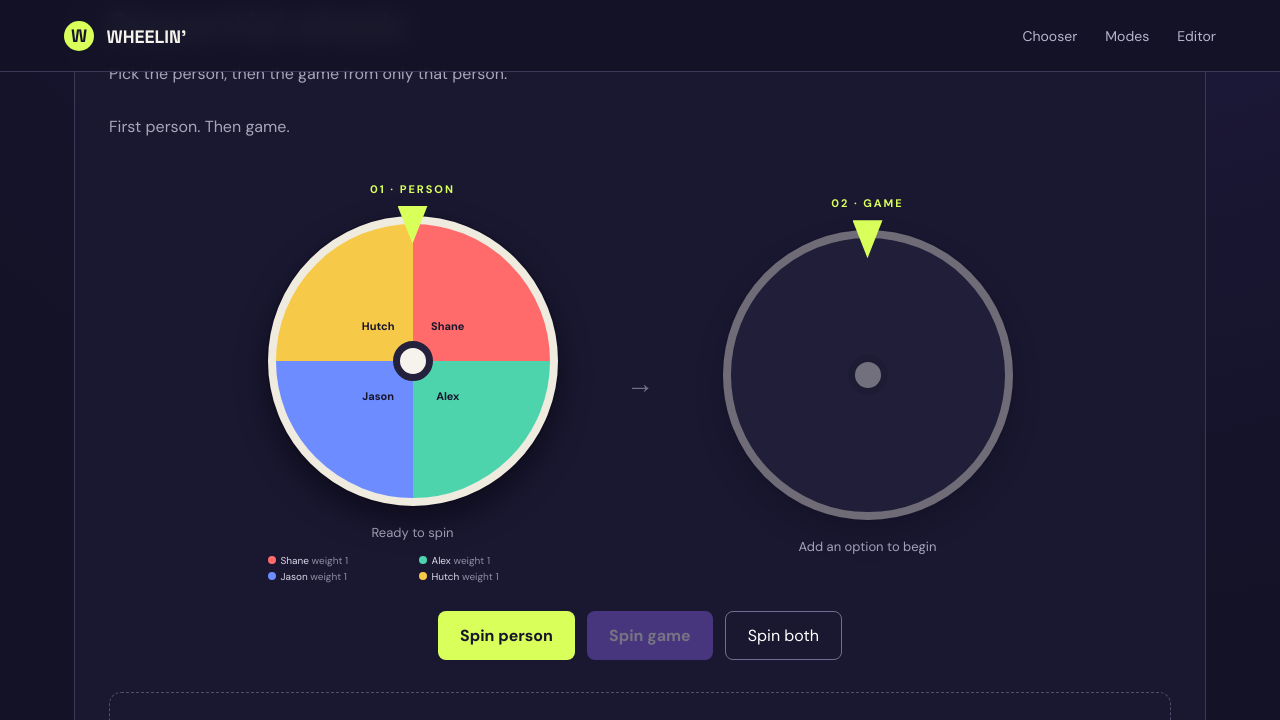
Test: application interactions › operates a wheel by keyboard
This screenshot has width=1280, height=720.
(page scrolled)
Press Enter in the button with aria-label "Person wheel", box [268,216,558,506]
Click the button with aria-label "Person wheel" at (412, 361), box [268,216,558,506]
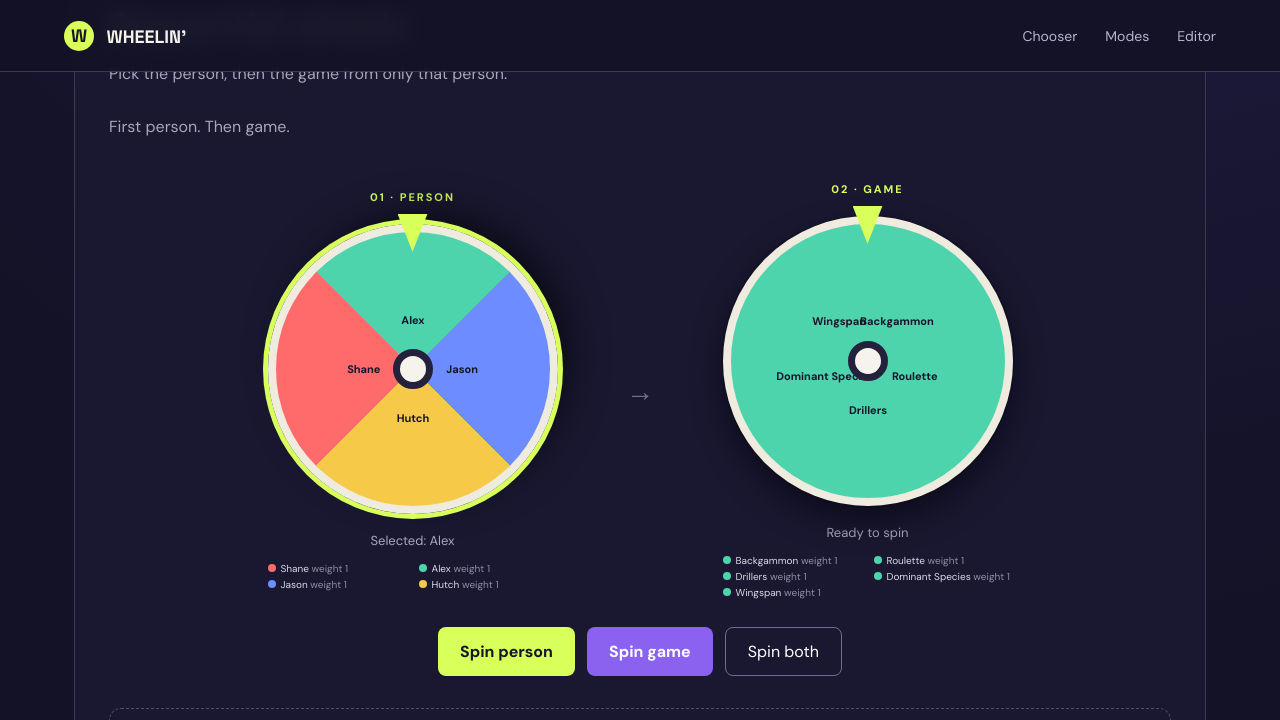
Expected: the text "Selected: Alex" is shown, [370,532,455,549]
